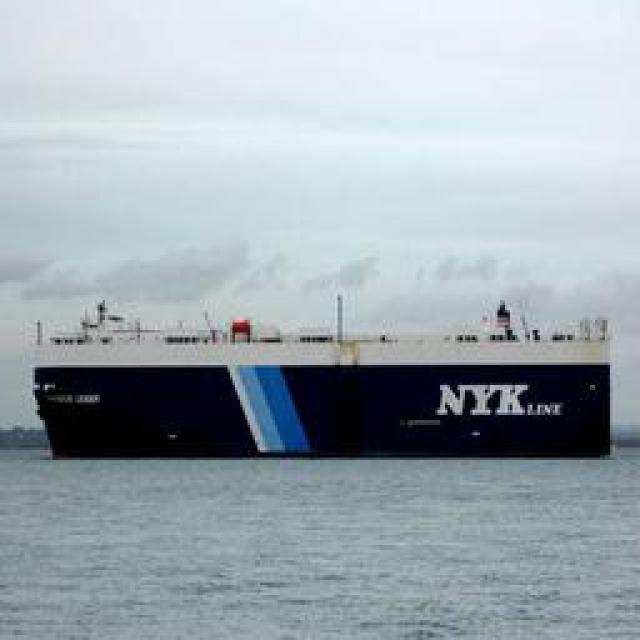ship2: (32, 293, 617, 460)
